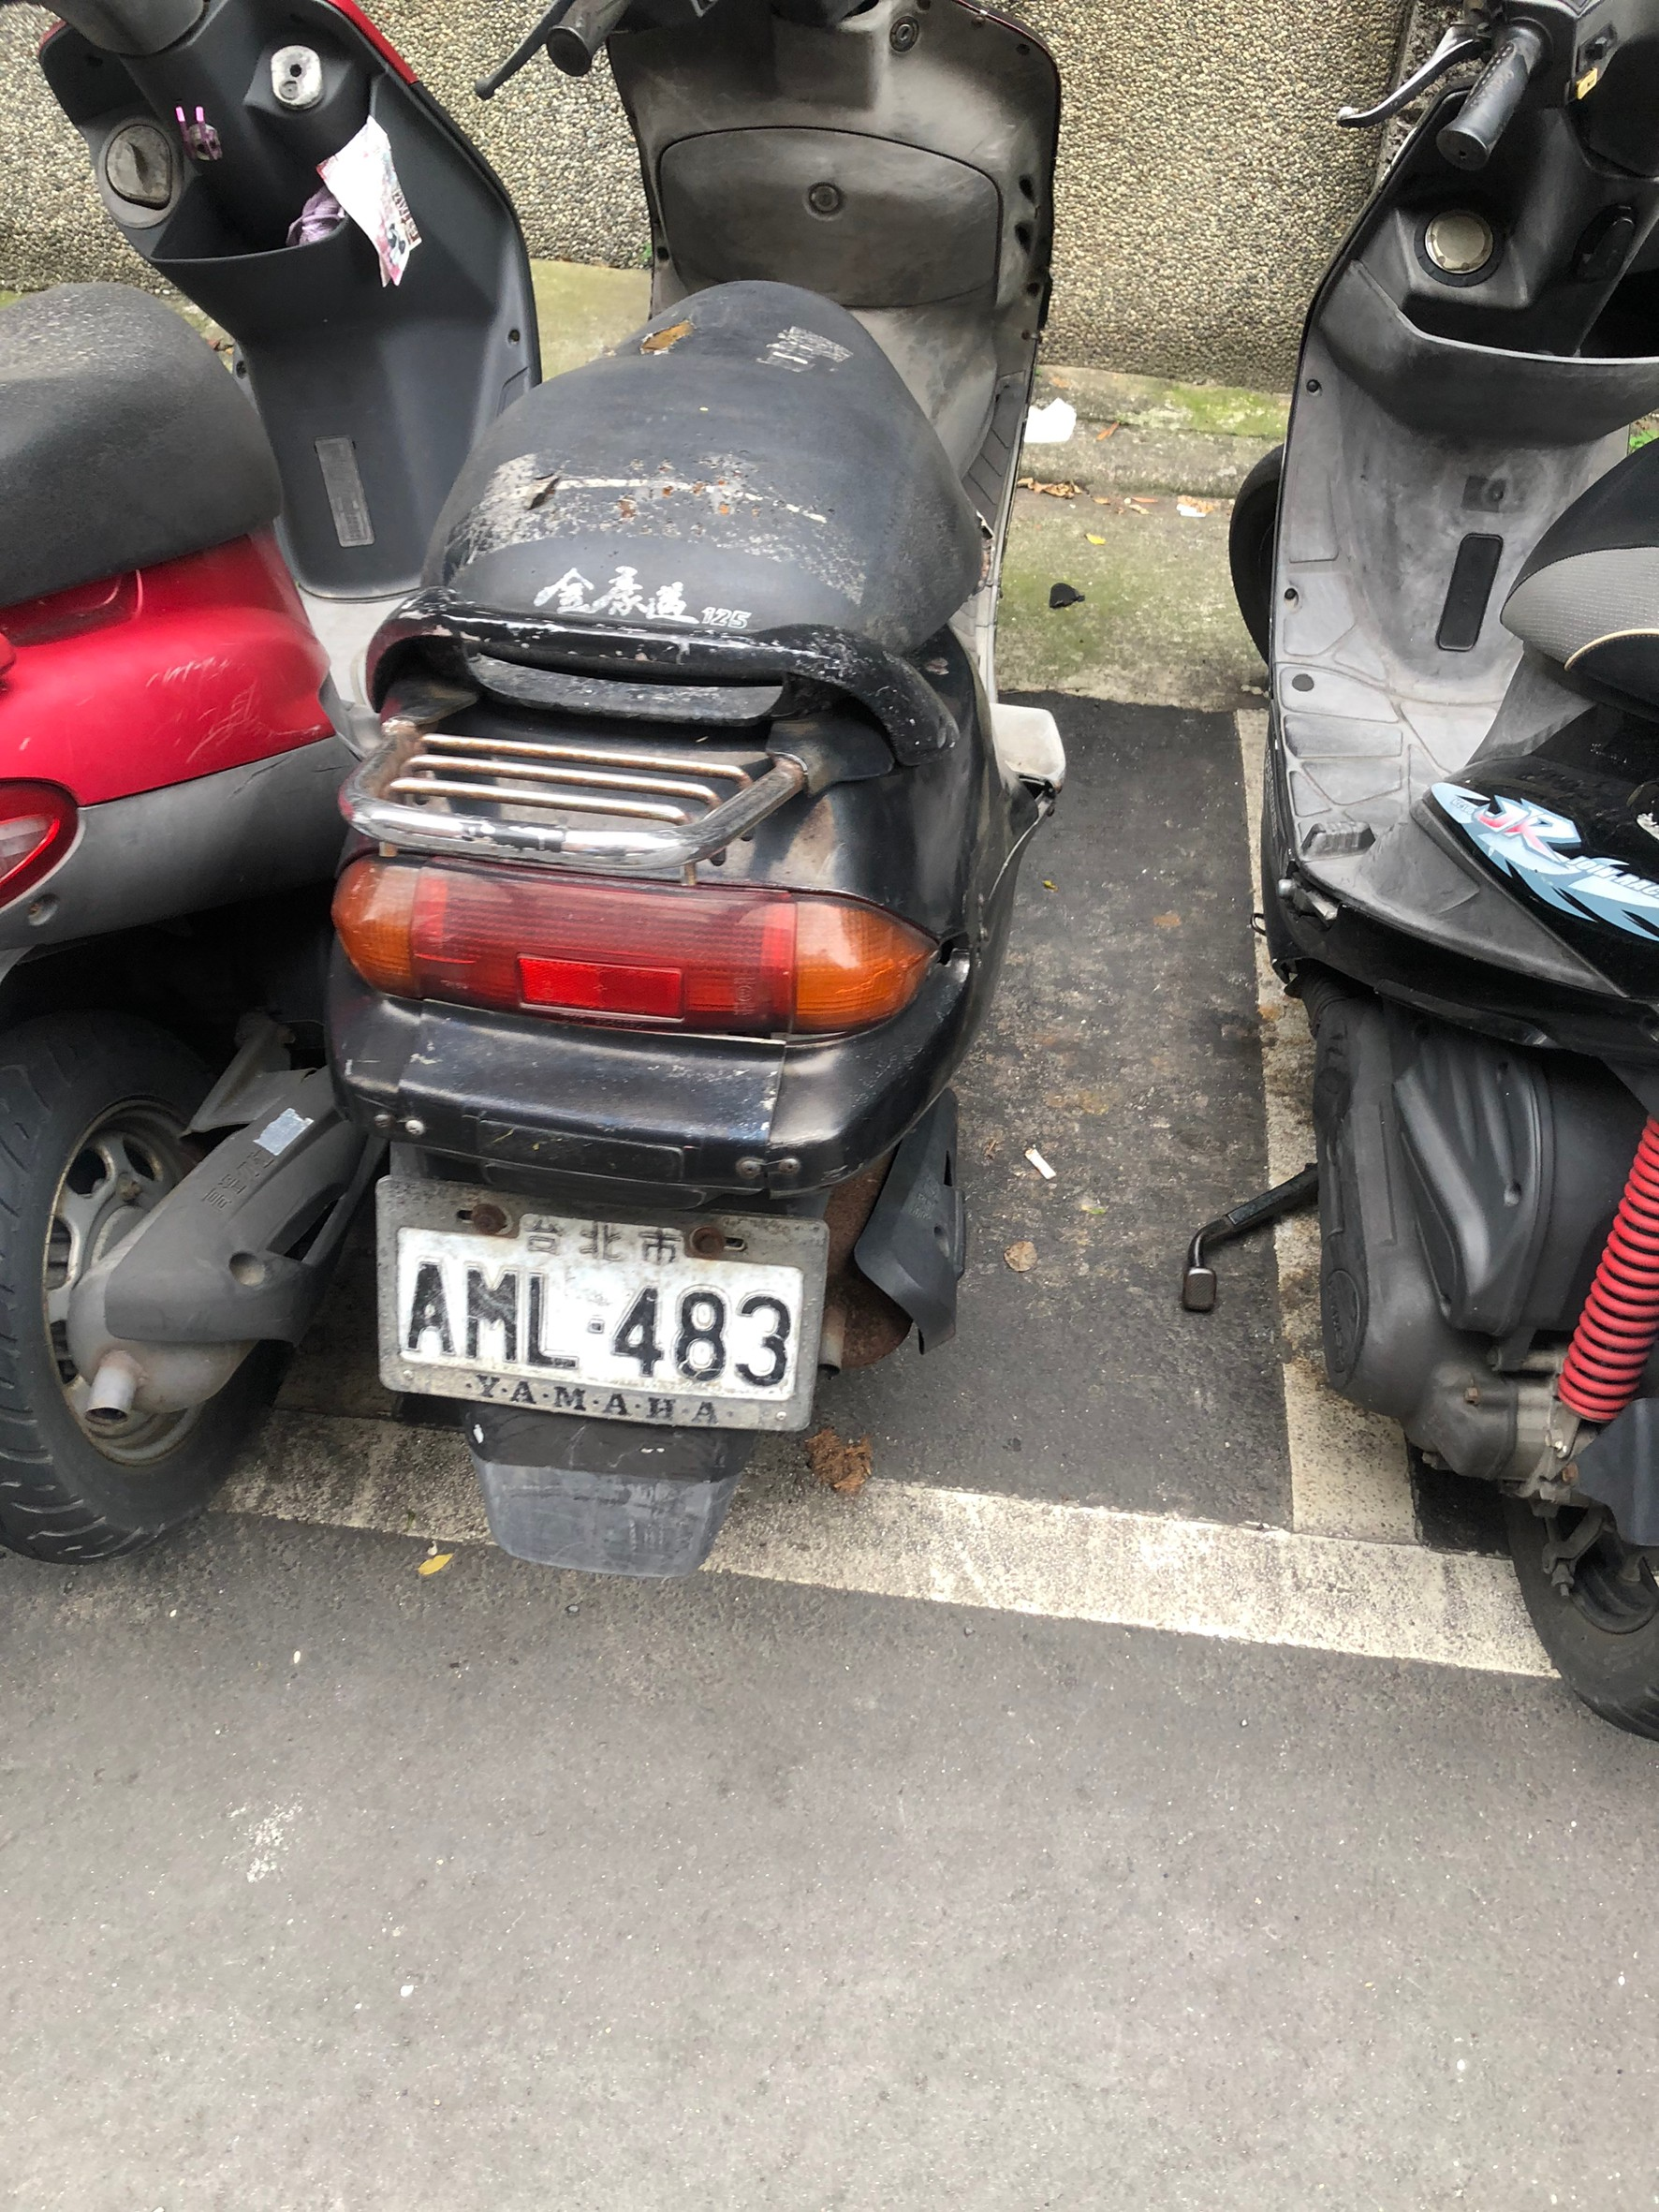LP: (373, 1175, 817, 1436)
